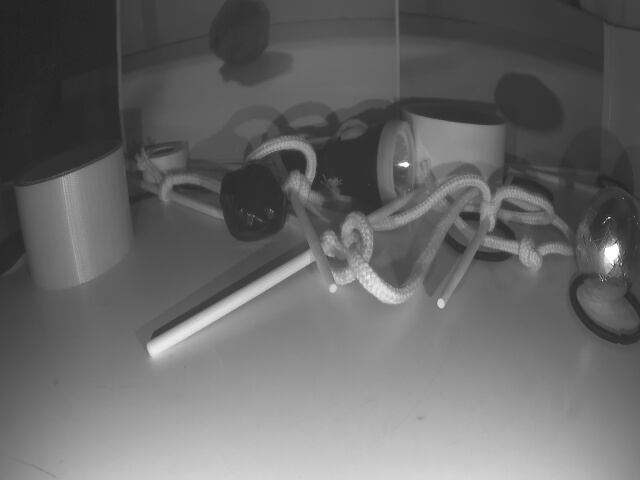Dead: (221, 166, 286, 241)
Live: (575, 185, 637, 295)
